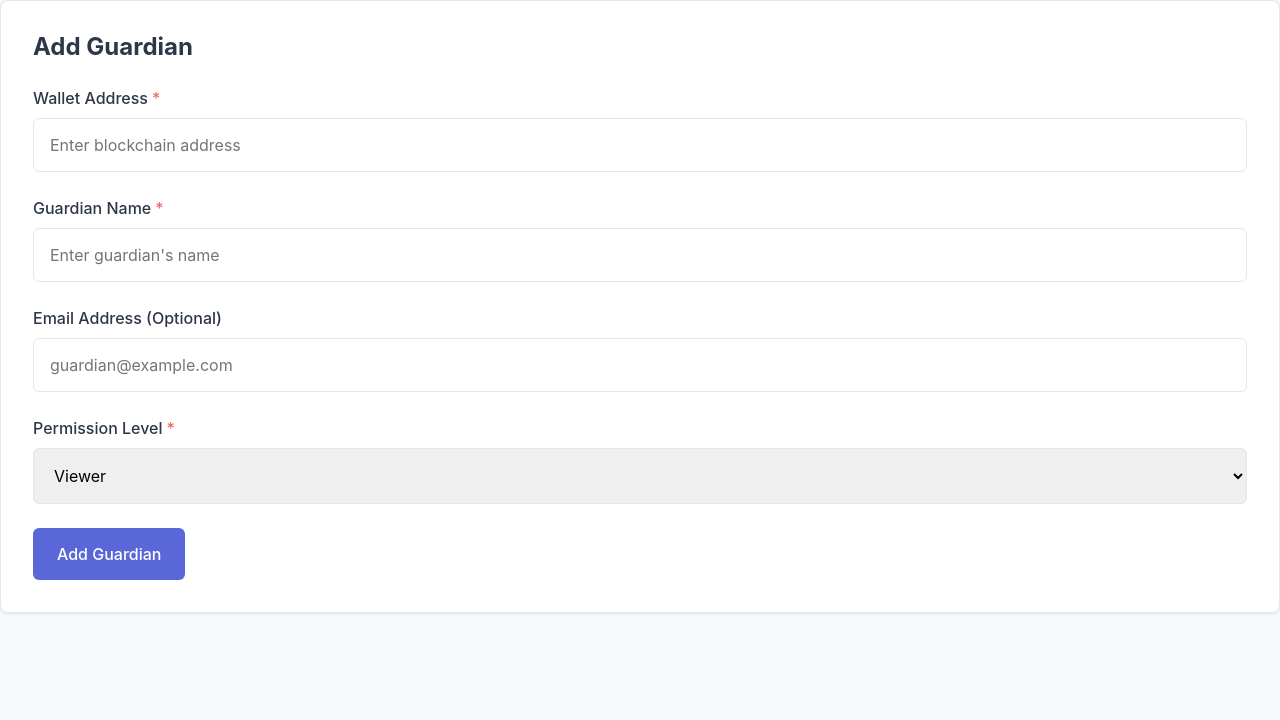
Test: AddGuardianForm › shows validation errors for required fields
The width and height of the screenshot is (1280, 720).
Click the field labelled "Wallet Address*" at (640, 145), box [33, 118, 1247, 172]
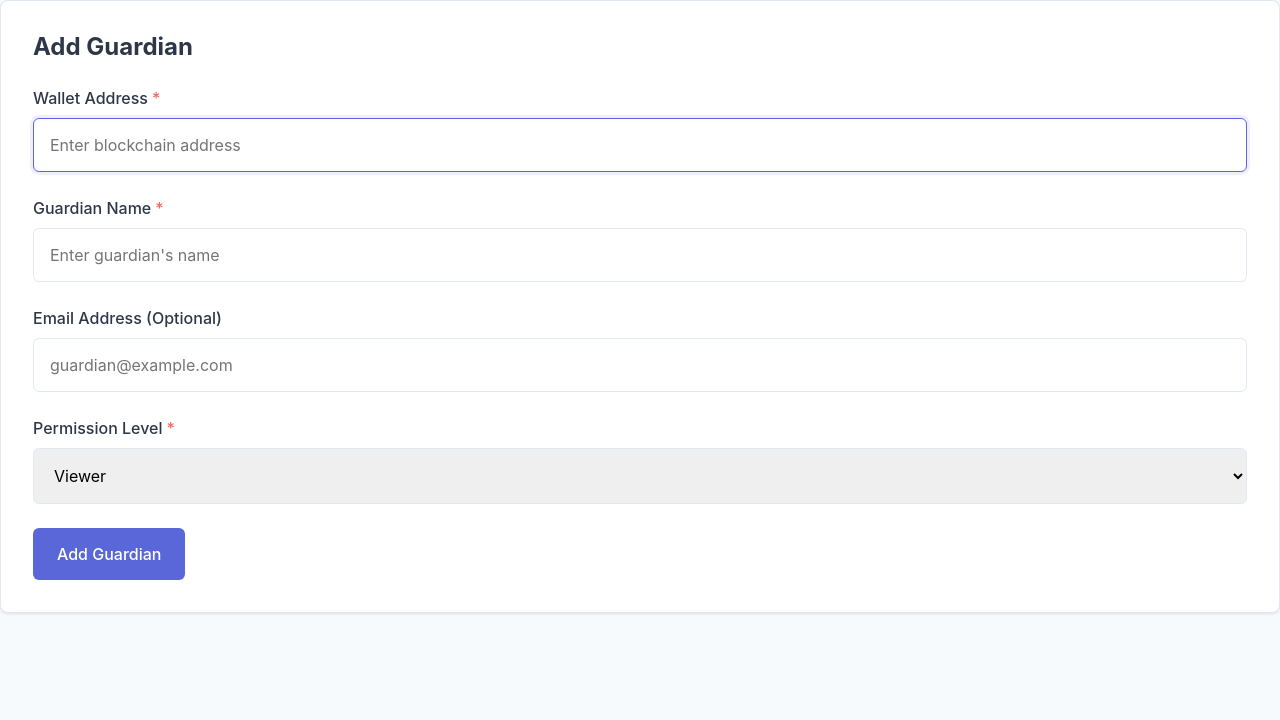
Press Tab
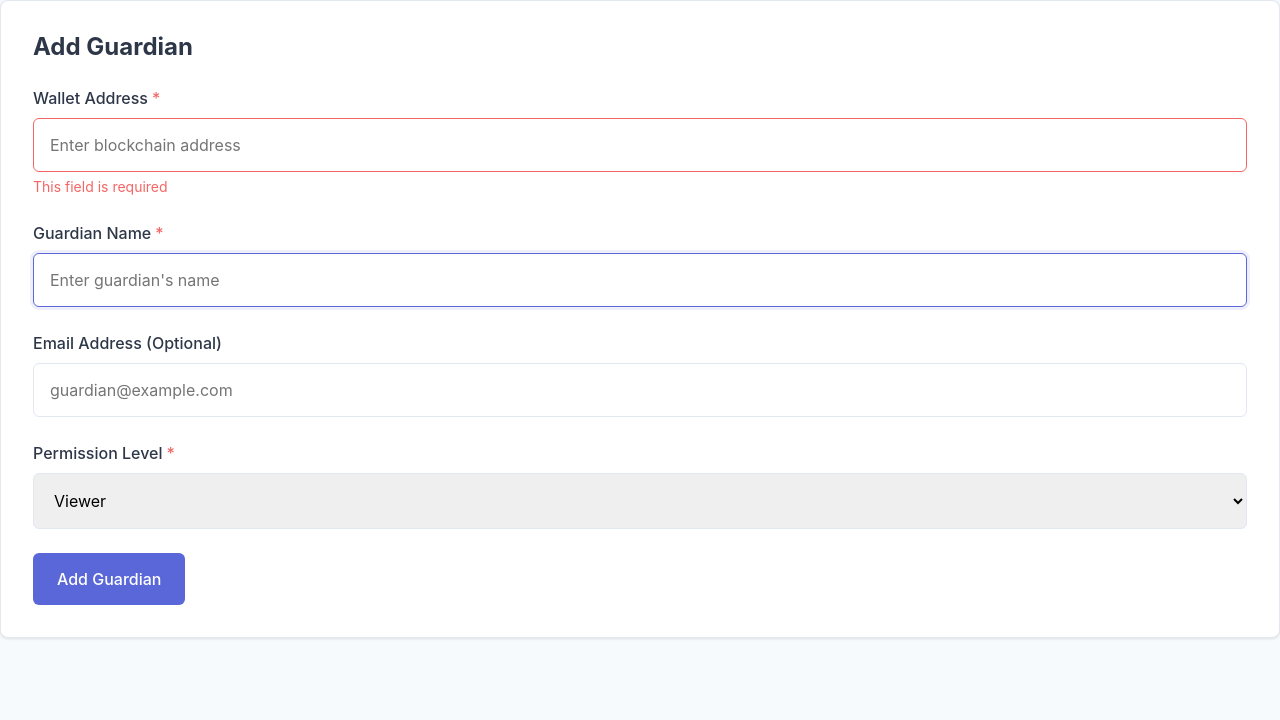
expect the text "This field is required" is shown: met, box [33, 178, 168, 195]
